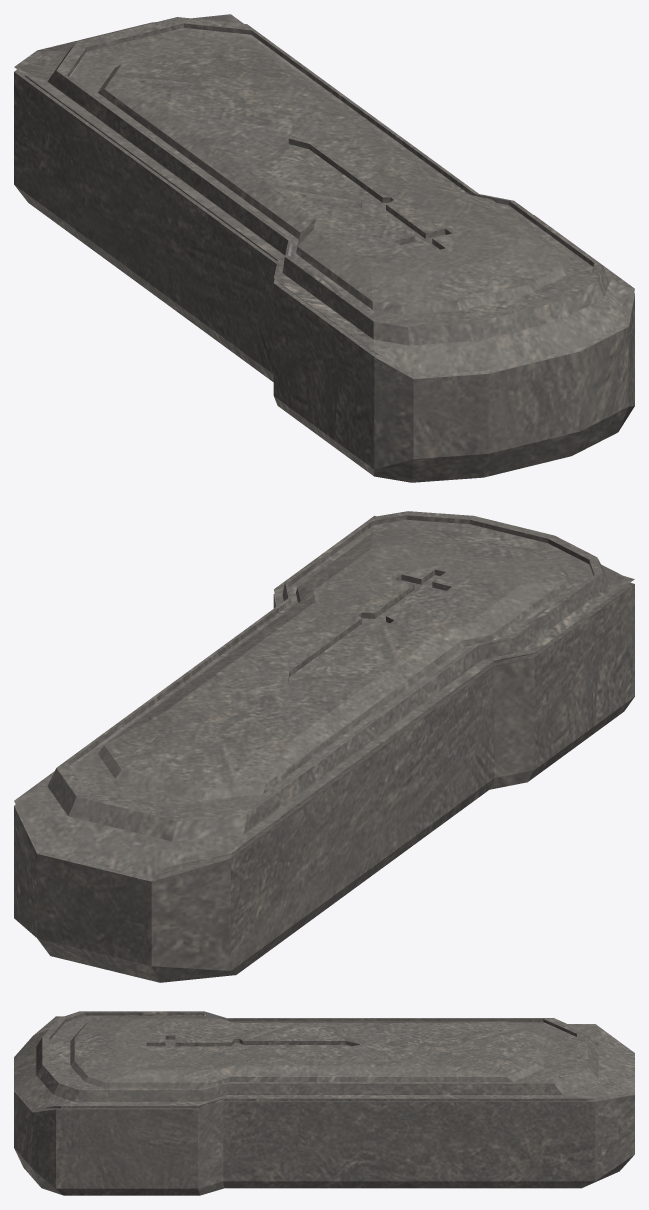
File: stone_coffin.glb
3 renders of one model, top to bottom at view 1: azimuth 30°, elevation 25°; view 2: azimuth 150°, elevation 25°; view 3: azimuth 270°, elevation 25°, orthographic. The views are drawn at different scales.
Parts seen in each view (by area): view 1: Cube; view 2: Cube; view 3: Cube.
Part boxes in pixels (x1=…): Cube: x1=14, y1=14, x2=634, y2=482; Cube: x1=14, y1=511, x2=634, y2=982; Cube: x1=14, y1=1011, x2=634, y2=1195.
Size of the model in its own units: 75.17 by 42.27 by 220.
Materials: 1 (1 with a texture image).
